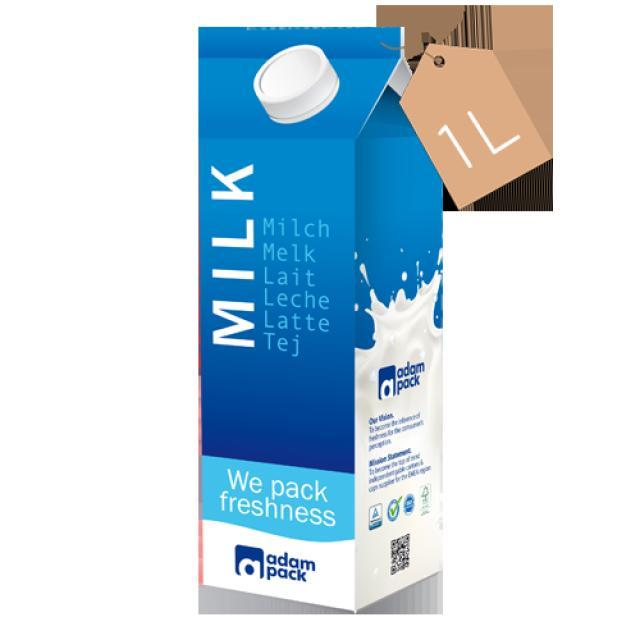Carton: (192, 17, 463, 627)
